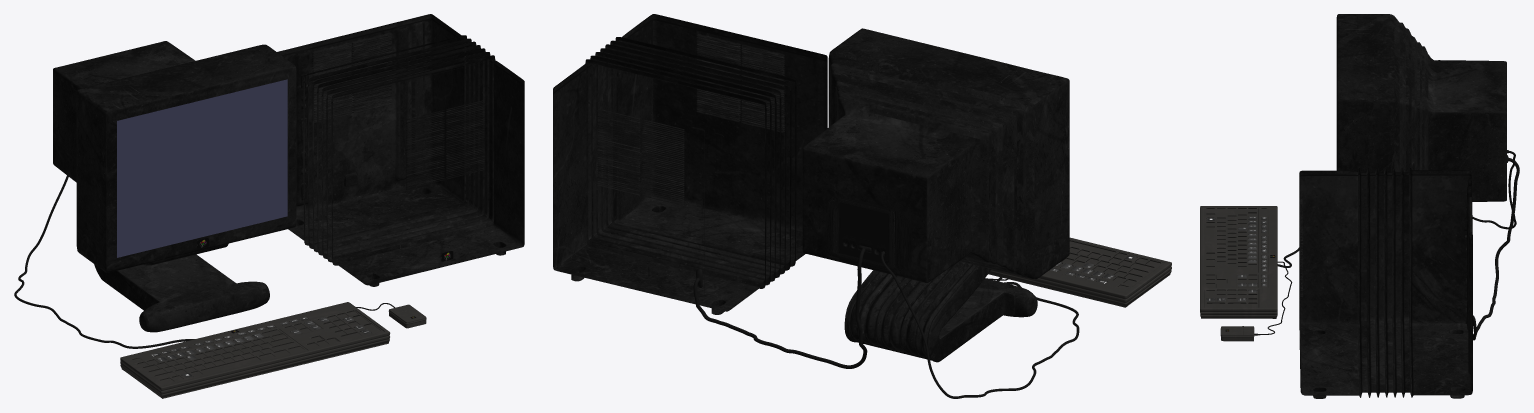
Rendered from NeXT_Cube3.glb.
3 renders of one model, left to right at view 1: azimuth 30°, elevation 25°; view 2: azimuth 150°, elevation 25°; view 3: azimuth 270°, elevation 25°, orthographic. The views are drawn at different scales.
Visible parts, largest first — view 1: computer, monitor, schermo, tastiera, tasti, Catenary.001, mouse; view 2: monitor, computer, tastiera, Catenary.002, Catenary.001, tasti; view 3: computer, monitor, tastiera, tasti, Catenary.002, mouse, Catenary.001.
Boxes of the visible parts, box(x1,y1,x2,y2) form: computer: box(277, 14, 524, 286); monitor: box(53, 41, 296, 332); schermo: box(117, 79, 287, 257); tastiera: box(120, 302, 390, 398); tasti: box(132, 310, 380, 381); Catenary.001: box(14, 175, 194, 348); mouse: box(388, 304, 426, 328); monitor: box(802, 28, 1069, 362); computer: box(553, 14, 827, 314); tastiera: box(988, 237, 1171, 307); Catenary.002: box(693, 245, 871, 368); Catenary.001: box(881, 251, 1079, 398); tasti: box(1049, 240, 1160, 286); computer: box(1299, 168, 1472, 398); monitor: box(1336, 14, 1506, 201); tastiera: box(1200, 206, 1277, 318); tasti: box(1206, 208, 1266, 303); Catenary.002: box(1465, 155, 1519, 340); mouse: box(1220, 326, 1254, 341); Catenary.001: box(1277, 150, 1516, 267).
Size of the model in its own units: 0.8428 by 0.4338 by 0.591.
6 materials, 5 textured.
